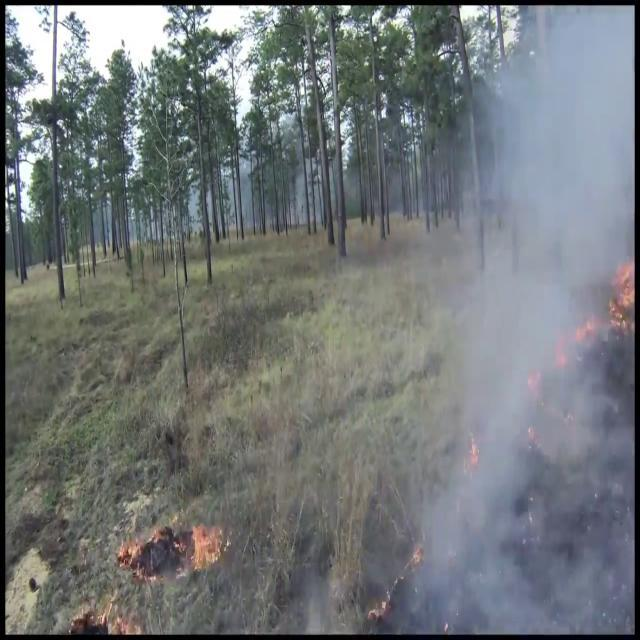Smoke: (394, 7, 634, 631)
